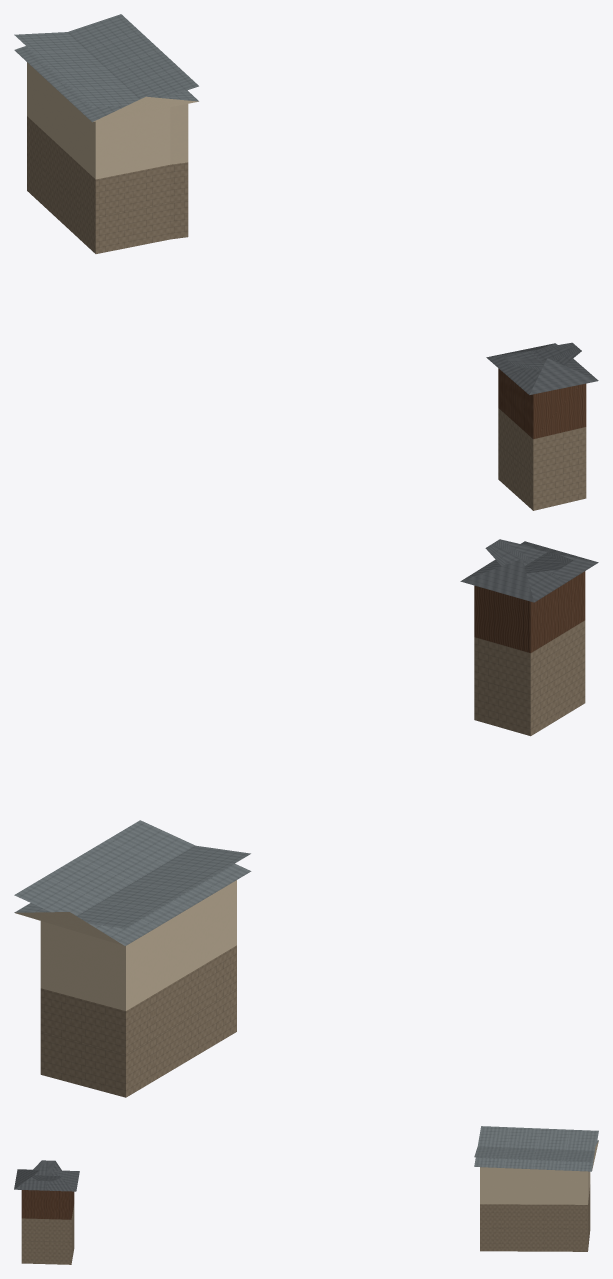
File: bld_c9_26_402.gltf
The picture shows the model from 3 angles, top to bottom: view 1: azimuth 30°, elevation 25°; view 2: azimuth 150°, elevation 25°; view 3: azimuth 270°, elevation 25°; orthographic projection. The views are drawn at different scales.
Visible parts, largest first — view 1: bld_c9_26_402; view 2: bld_c9_26_402; view 3: bld_c9_26_402.
Part boxes in pixels (x1,y1,x2,y2): bld_c9_26_402: [14, 14, 598, 510]; bld_c9_26_402: [14, 539, 598, 1097]; bld_c9_26_402: [14, 1126, 598, 1264].
Size of the model in its own units: 9.71 by 10.2 by 55.26.
Materials: 6 (6 with a texture image).
